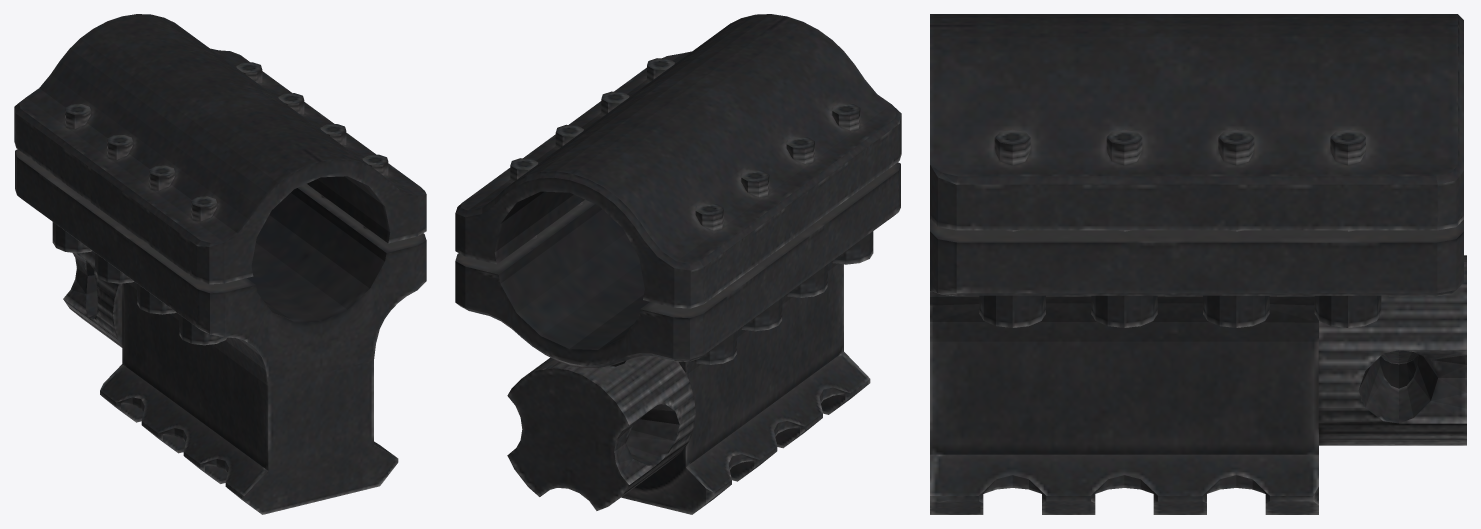
3 views of the same model, side by side, from view 1: azimuth 30°, elevation 25°; view 2: azimuth 150°, elevation 25°; view 3: azimuth 270°, elevation 25° (orthographic). The views are drawn at different scales.
Visible parts, largest first — view 1: TW_5a34fbadc4a28200741e230a_PZ_Import; view 2: TW_5a34fbadc4a28200741e230a_PZ_Import; view 3: TW_5a34fbadc4a28200741e230a_PZ_Import.
Part boxes in pixels (x1,y1,x2,y2): TW_5a34fbadc4a28200741e230a_PZ_Import: [14, 14, 426, 514]; TW_5a34fbadc4a28200741e230a_PZ_Import: [455, 14, 901, 514]; TW_5a34fbadc4a28200741e230a_PZ_Import: [930, 14, 1466, 514].
Size of the model in its own units: 0.0181 by 0.0277 by 0.0257.
Materials: 1 (1 with a texture image).
